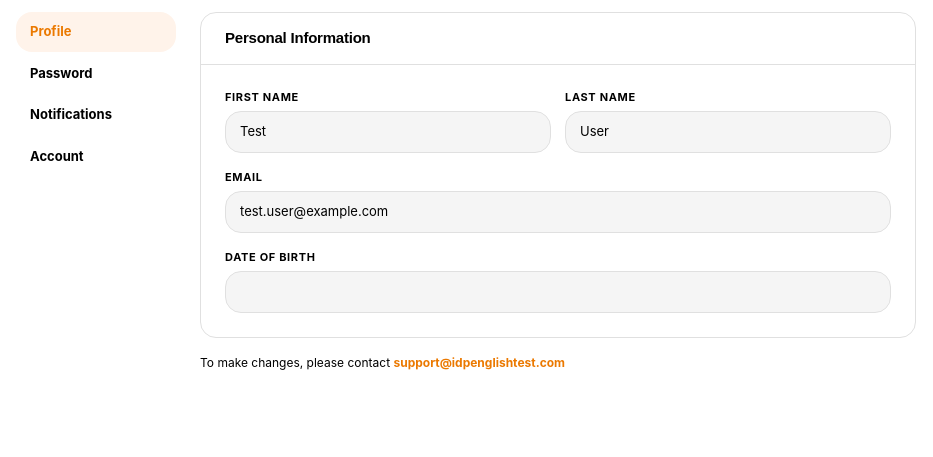
Test: Settings › Password Tab › validates new password and confirmation match
Click the tab "Password" at (96, 73), box x1=16 y1=54 x2=176 y2=93
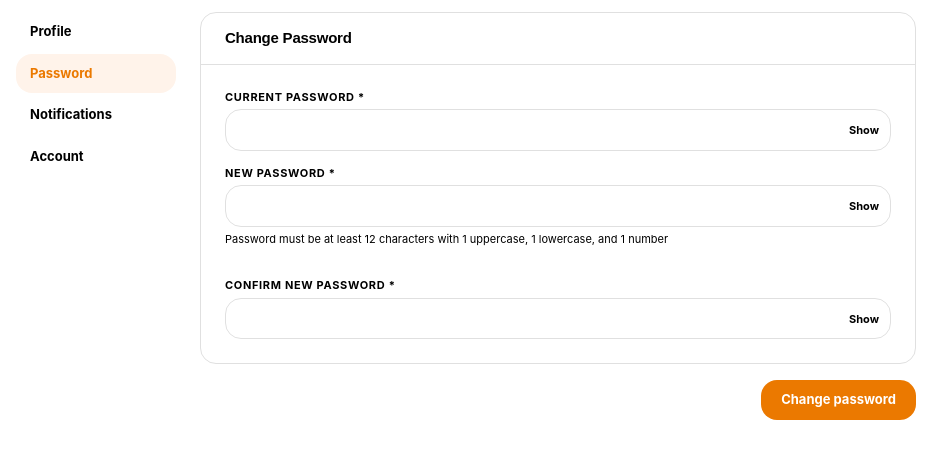
Type "OldPass123!" into the password field labelled "Current Password *" at (558, 130), box x1=225 y1=109 x2=891 y2=151
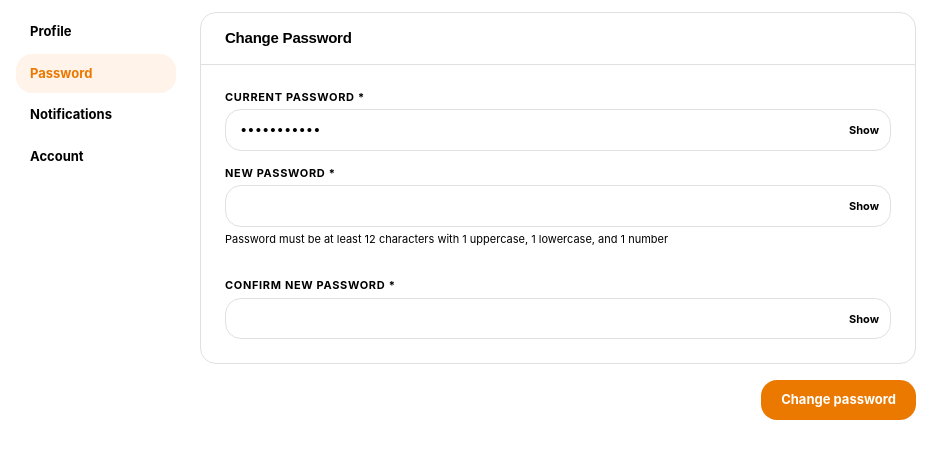
Type "NewPassword123!" into the password field with id "new-password" at (558, 206), box x1=225 y1=185 x2=891 y2=227
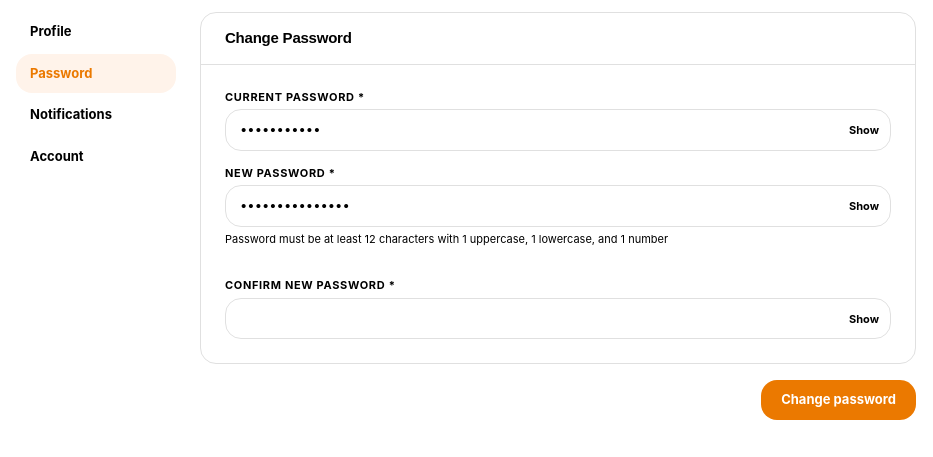
Type "DifferentPass123!" into the password field labelled "Confirm New Password *" at (558, 319), box x1=225 y1=298 x2=891 y2=339
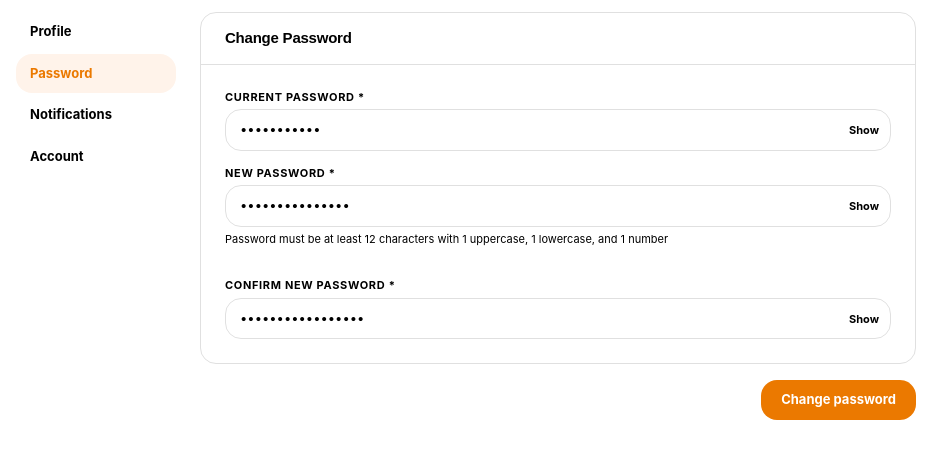
Click the button "Change password" at (839, 400), box x1=761 y1=380 x2=916 y2=420
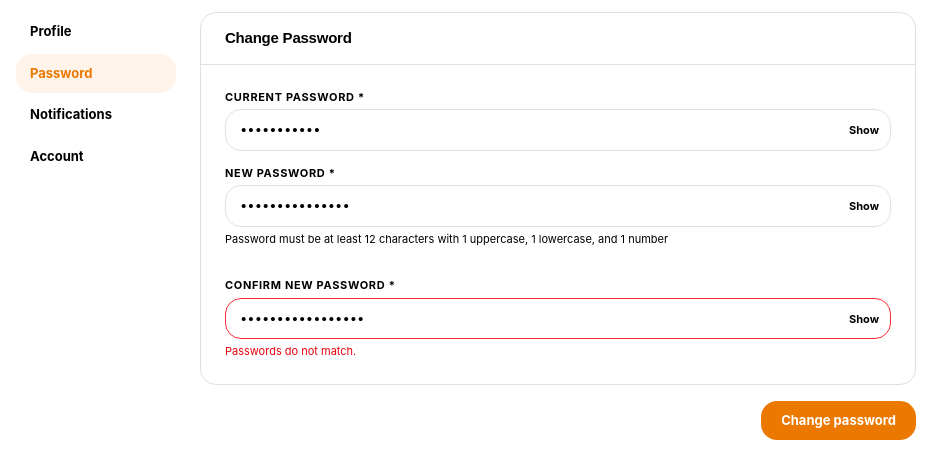
Check: the text "Passwords do not match." is shown, box x1=225 y1=344 x2=356 y2=358
